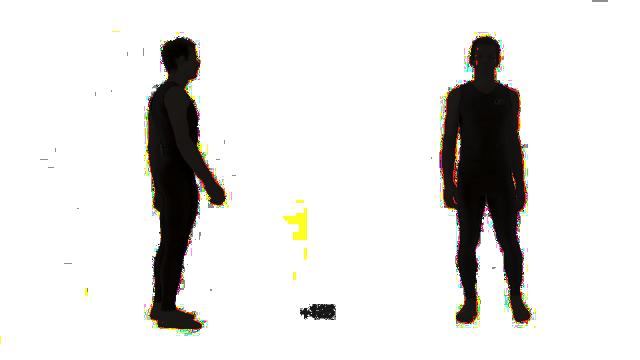berdiri: (436, 30, 532, 324), (142, 36, 226, 330)
